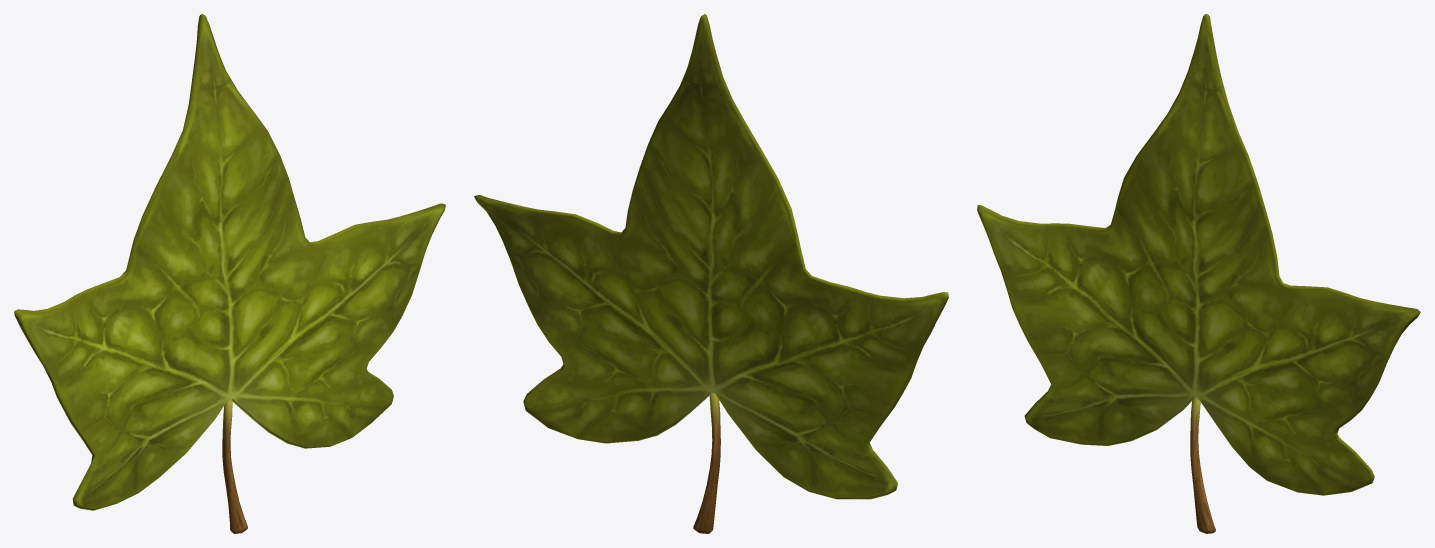
Rendered from folha.glb.
3 renders of one model, left to right at view 1: azimuth 30°, elevation 25°; view 2: azimuth 150°, elevation 25°; view 3: azimuth 330°, elevation 25°, orthographic. The views are drawn at different scales.
Visible parts, largest first — view 1: node_id33; view 2: node_id33; view 3: node_id33.
Part boxes in pixels (x1,y1,x2,y2): node_id33: [14, 14, 445, 533]; node_id33: [474, 14, 948, 533]; node_id33: [977, 14, 1420, 533].
Bounding box in the file's own units: 0.2083 × 0.2301 × 0.025.
1 material, 1 textured.
